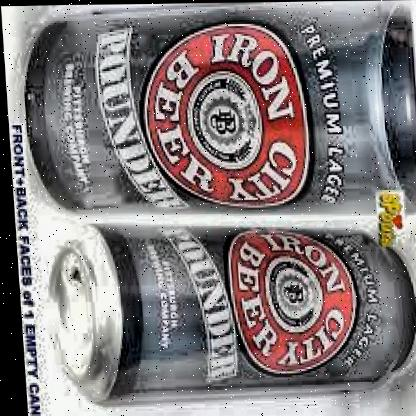Can: (12, 0, 416, 222), (34, 219, 416, 409)
